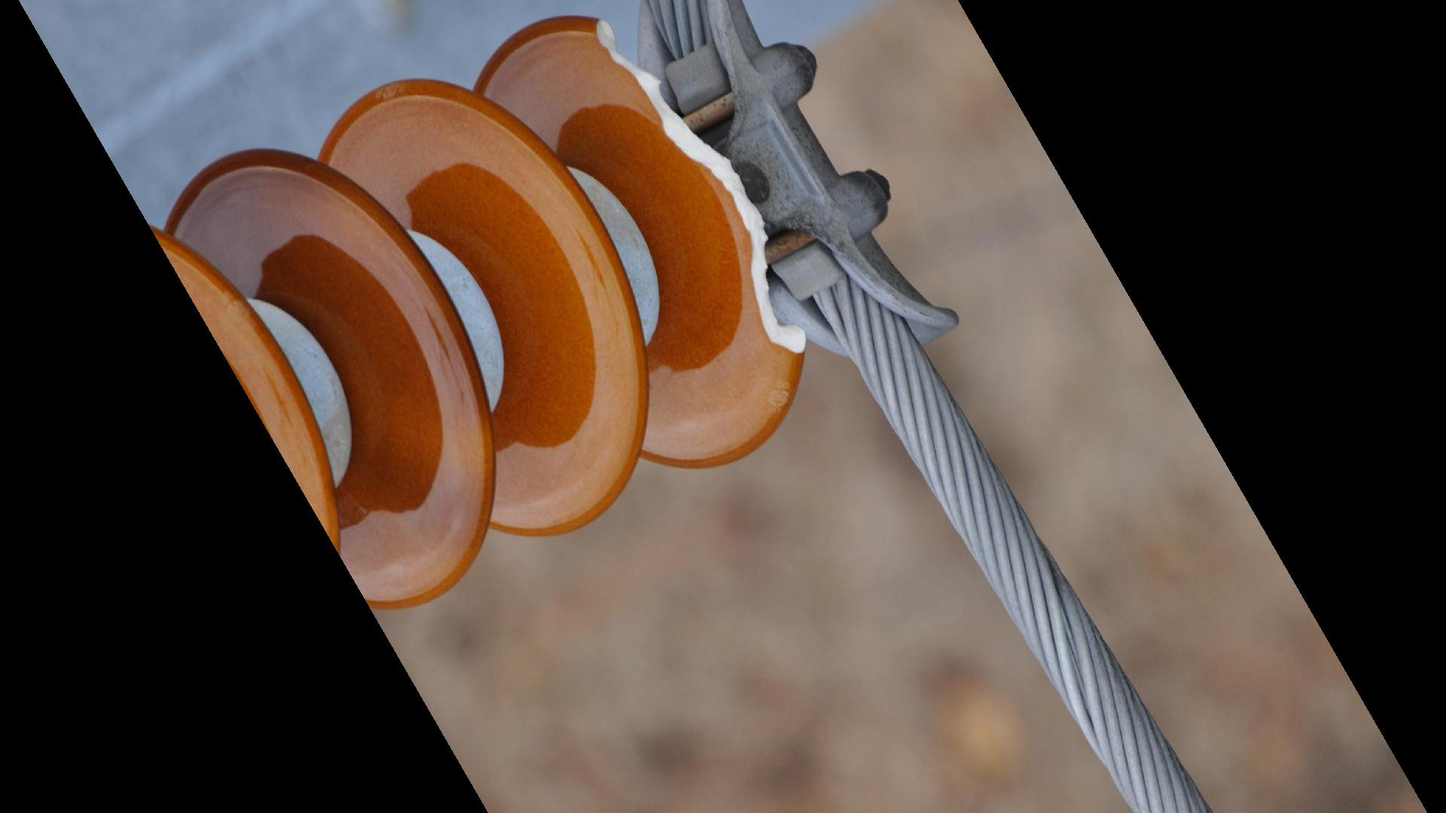insulator: (131, 10, 812, 618)
insulator_breakage: (585, 11, 819, 370)
